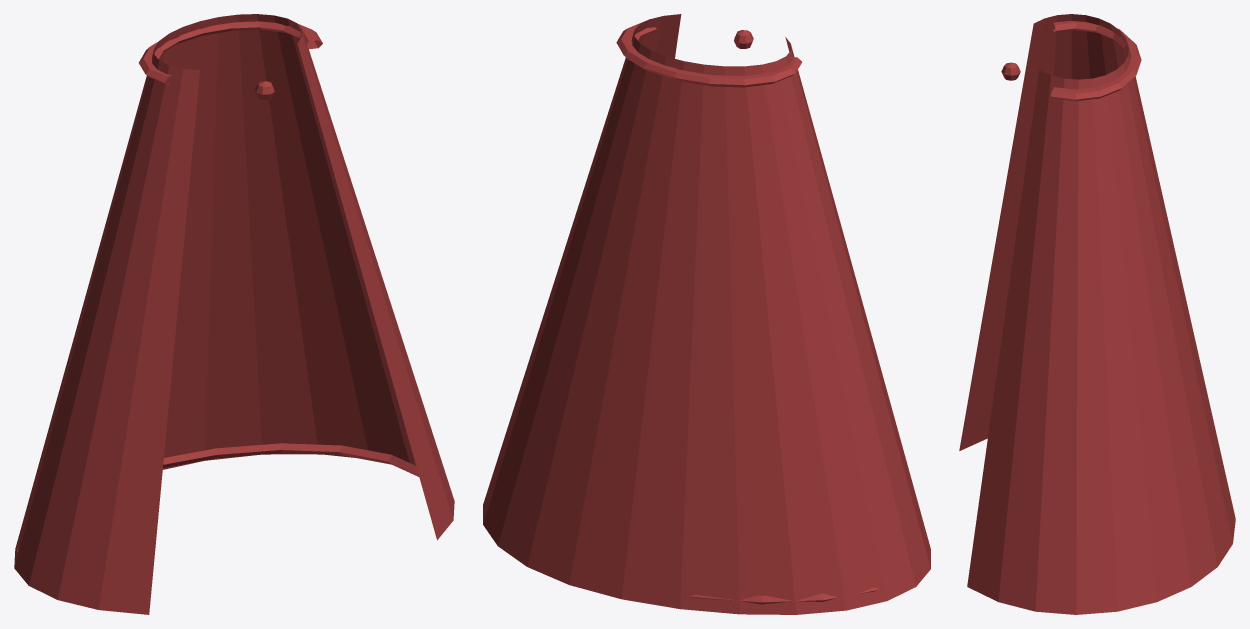
Rendered from cape.fbx.
3 views of the same model, side by side, from view 1: azimuth 30°, elevation 25°; view 2: azimuth 150°, elevation 25°; view 3: azimuth 270°, elevation 25° (orthographic). The views are drawn at different scales.
Visible parts, largest first — view 1: cape; view 2: cape; view 3: cape.
Boxes of the visible parts, x1,y1,x2,y2 form: cape: [14, 14, 454, 614]; cape: [483, 14, 930, 614]; cape: [959, 14, 1235, 614].
Size of the model in its own units: 0.7 by 0.8 by 0.4271.
